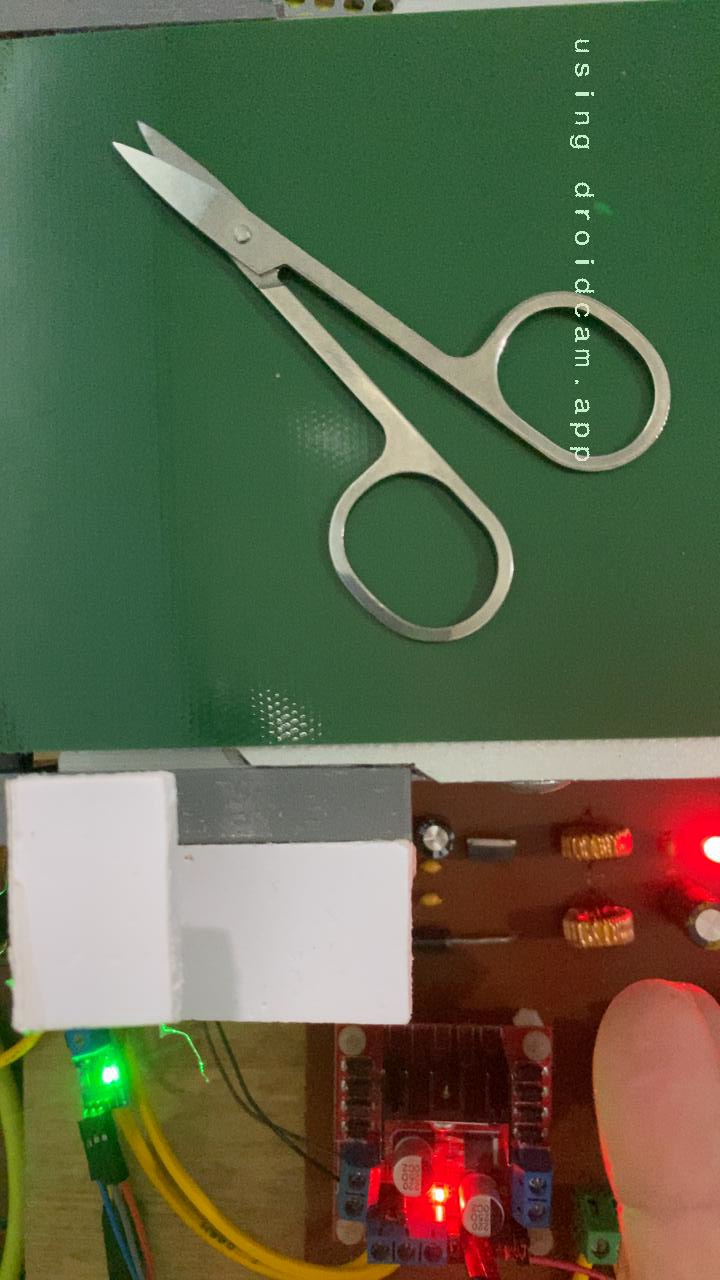scissor: (107, 116, 678, 648)
